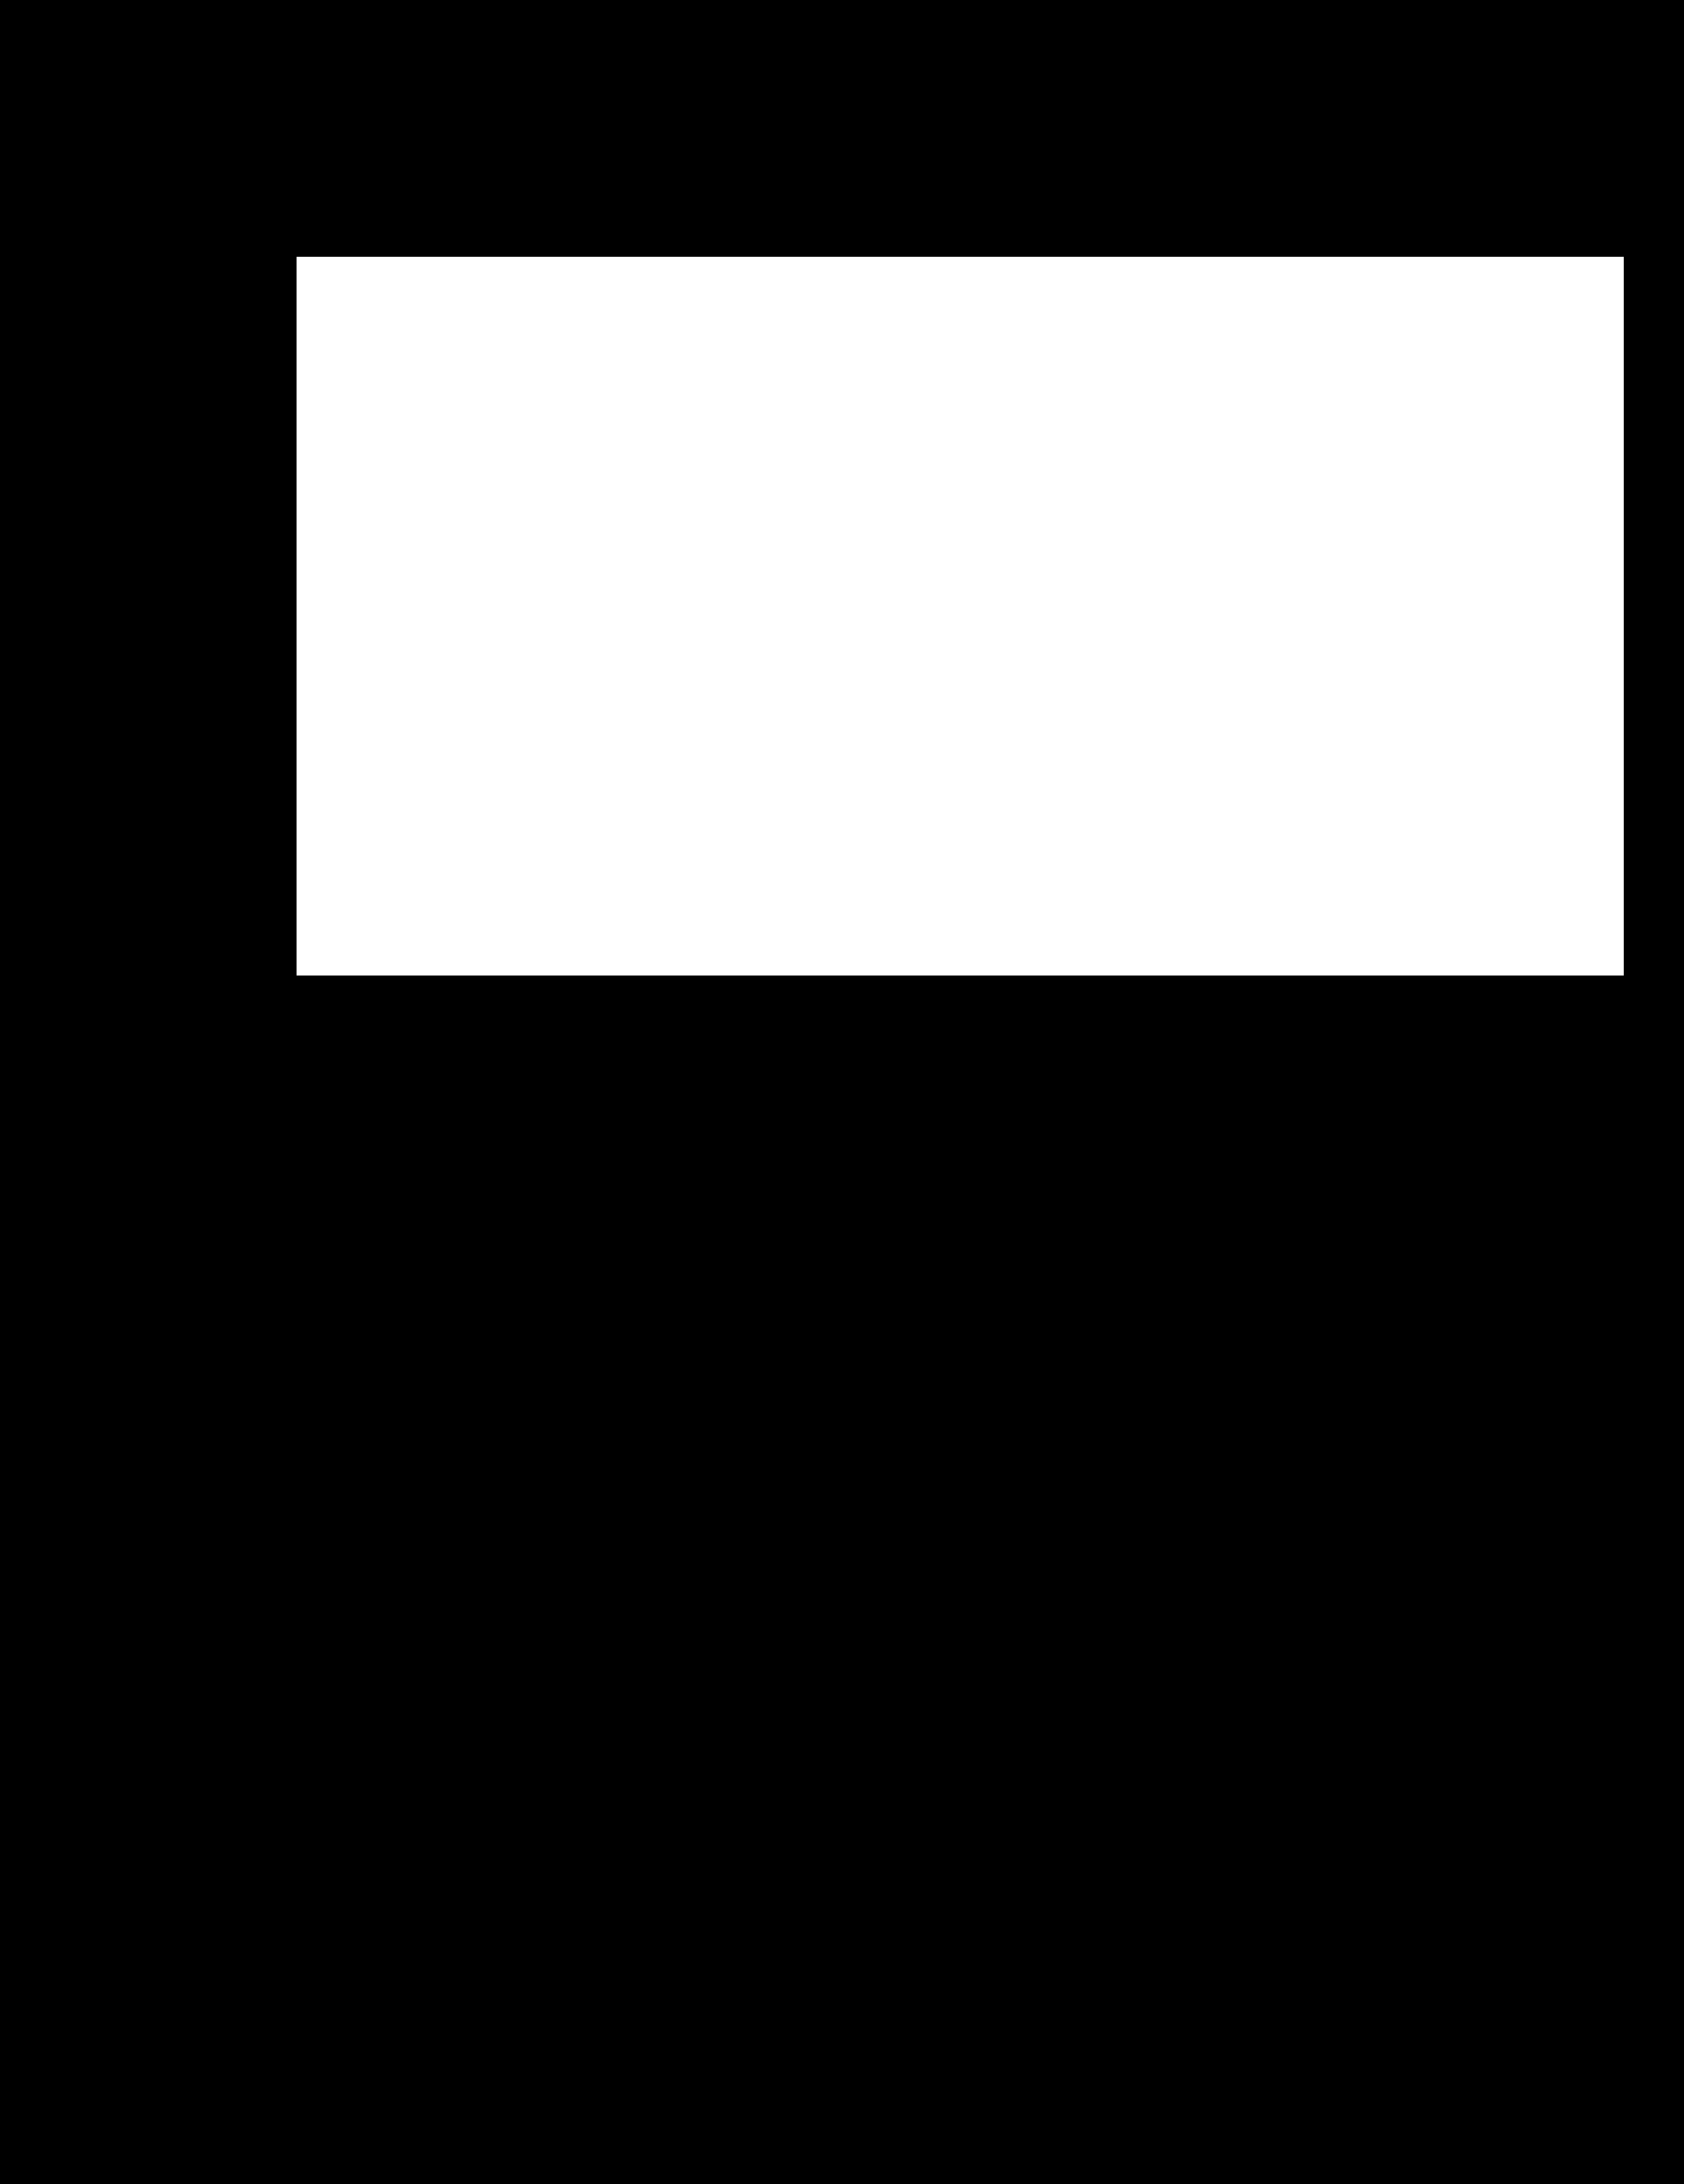table: (297, 256, 1624, 974)
